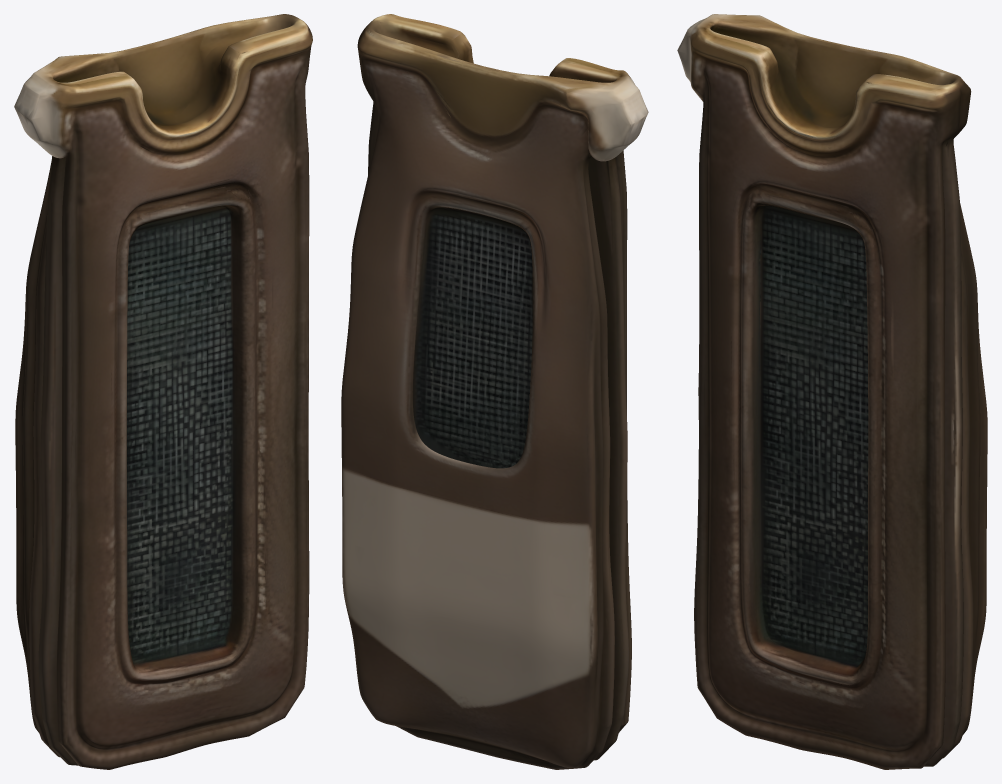
Rendered from FlatSleeve.glb.
3 renders of one model, left to right at view 1: azimuth 30°, elevation 25°; view 2: azimuth 150°, elevation 25°; view 3: azimuth 330°, elevation 25°, orthographic.
Parts seen in each view (by area): view 1: node_0; view 2: node_0; view 3: node_0.
Part boxes in pixels (x1,y1,x2,y2): node_0: (14, 14, 312, 769); node_0: (341, 14, 648, 769); node_0: (677, 14, 987, 769).
Bounding box in the file's own units: 0.4672 × 1.11 × 0.155.
1 material, 1 textured.
